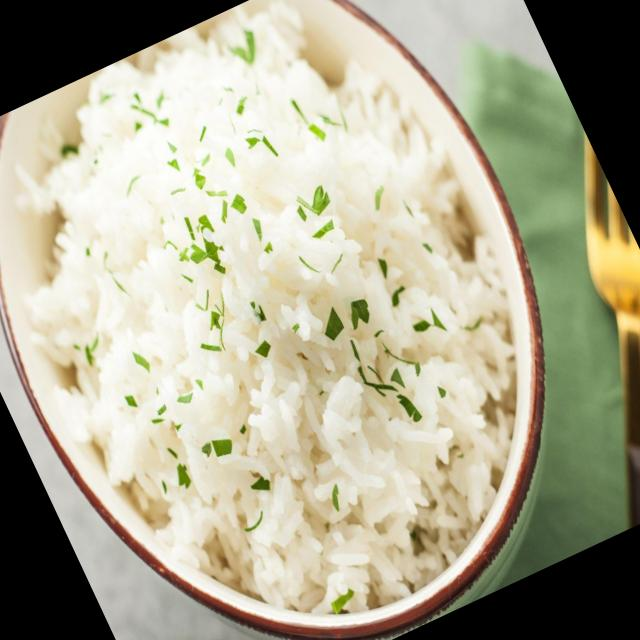rice: (36, 0, 510, 612)
